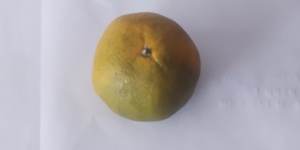BAD: (91, 13, 207, 126)
